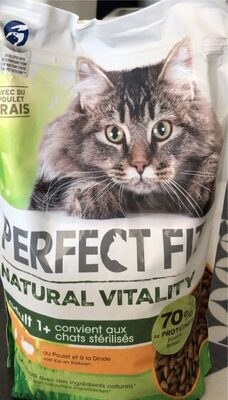carotte: (11, 20, 217, 380)
